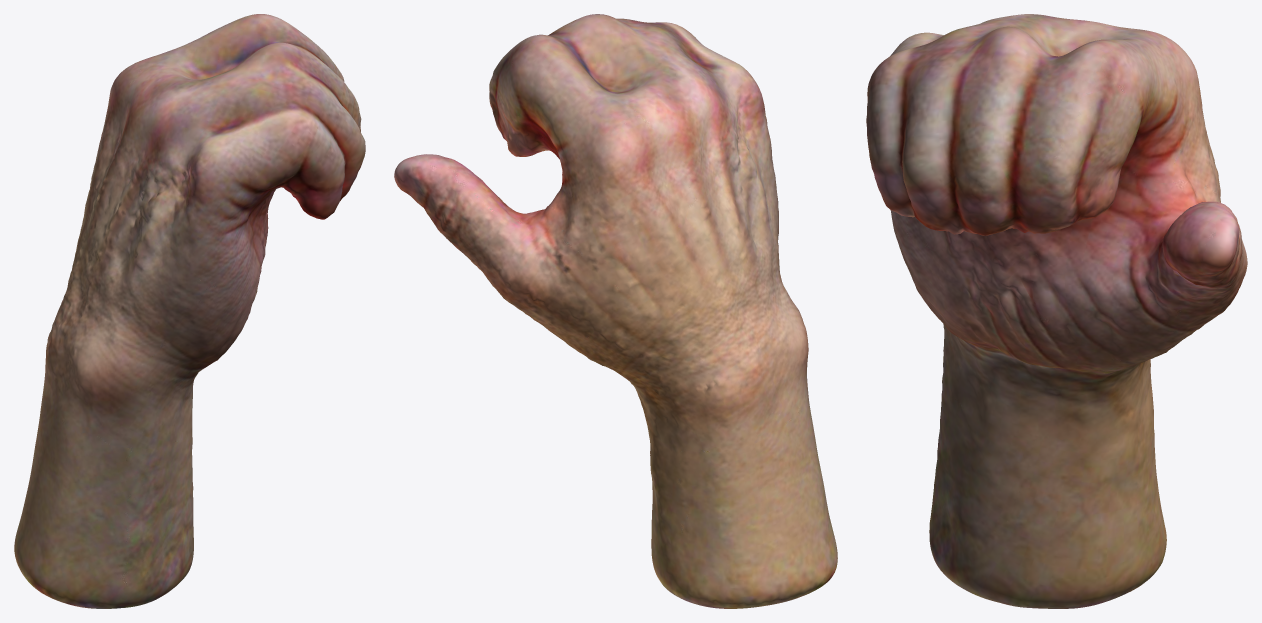
File: hand2.glb
The picture shows the model from 3 angles, left to right: view 1: azimuth 30°, elevation 25°; view 2: azimuth 150°, elevation 25°; view 3: azimuth 270°, elevation 25°; orthographic projection. The views are drawn at different scales.
Visible parts, largest first — view 1: Mesh1; view 2: Mesh1; view 3: Mesh1.
Boxes of the visible parts, left/top/right/bottom form: Mesh1: left=14, top=14, right=365, bottom=608; Mesh1: left=394, top=14, right=837, bottom=608; Mesh1: left=866, top=14, right=1247, bottom=608.
Bounding box in the file's own units: 0.8606 × 1.2 × 0.6392.
1 material, 1 textured.
